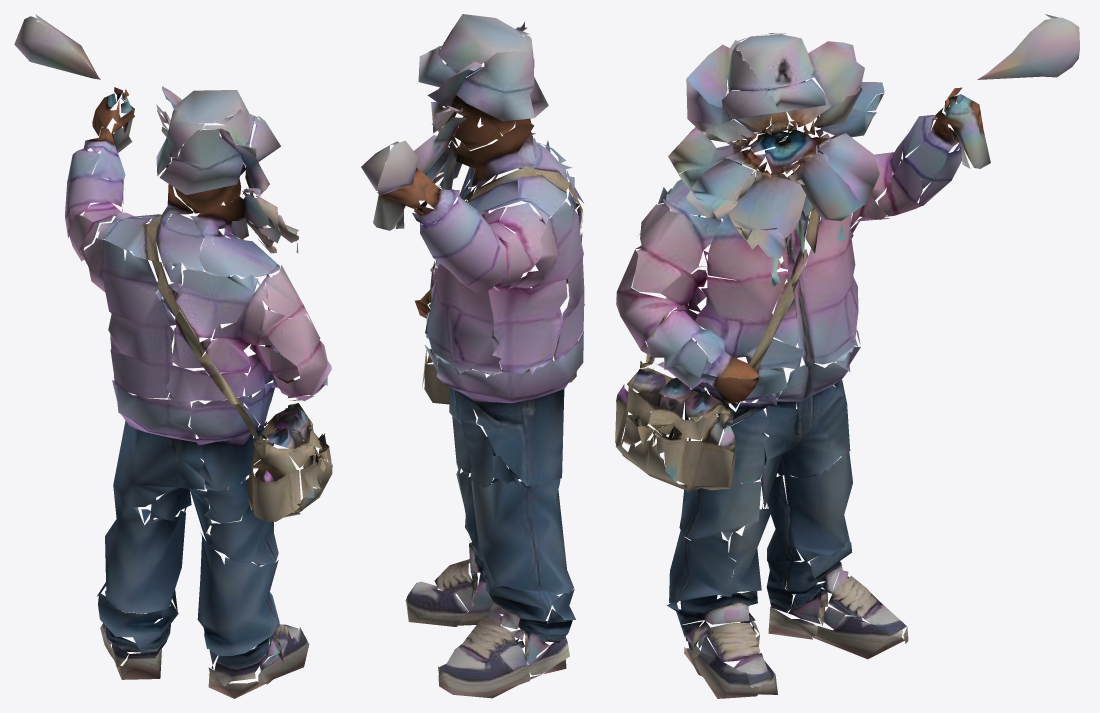
Rendered from cast_writer.glb.
3 renders of one model, left to right at view 1: azimuth 30°, elevation 25°; view 2: azimuth 150°, elevation 25°; view 3: azimuth 270°, elevation 25°, orthographic. The views are drawn at different scales.
Parts seen in each view (by area): view 1: tripo_node_a171b73f-355f-4e3c-badd-fdc2f2bb58a7; view 2: tripo_node_a171b73f-355f-4e3c-badd-fdc2f2bb58a7; view 3: tripo_node_a171b73f-355f-4e3c-badd-fdc2f2bb58a7.
Part boxes in pixels (box(x1,y1,x2,y2)): tripo_node_a171b73f-355f-4e3c-badd-fdc2f2bb58a7: box(14, 14, 332, 698); tripo_node_a171b73f-355f-4e3c-badd-fdc2f2bb58a7: box(361, 14, 584, 698); tripo_node_a171b73f-355f-4e3c-badd-fdc2f2bb58a7: box(615, 14, 1079, 698).
Bounding box in the file's own units: 0.3208 × 1 × 0.682.
Materials: 1 (1 with a texture image).
